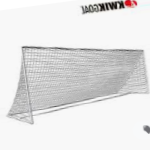goals: (5, 43, 150, 124)
